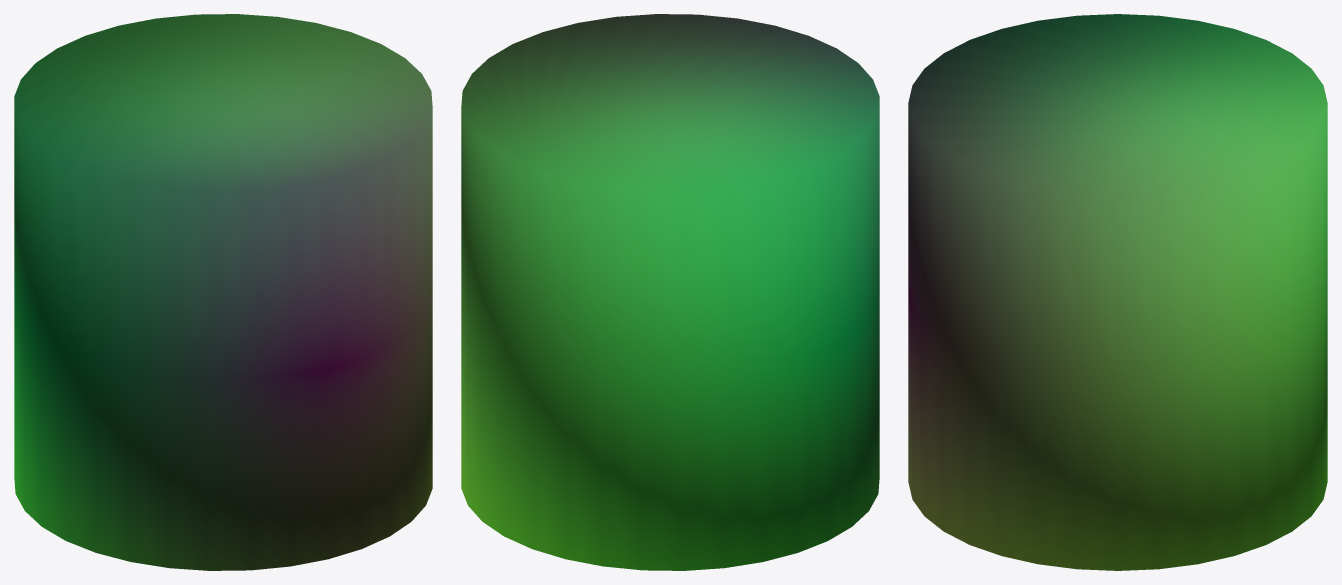
The picture shows the model from 3 angles, left to right: view 1: azimuth 30°, elevation 25°; view 2: azimuth 150°, elevation 25°; view 3: azimuth 270°, elevation 25°; orthographic projection.
Parts seen in each view (by area): view 1: Cylinder; view 2: Cylinder; view 3: Cylinder.
Boxes of the visible parts, box(x1,y1,x2,y2) form: Cylinder: box(14, 14, 432, 570); Cylinder: box(461, 14, 879, 570); Cylinder: box(908, 14, 1327, 570).
Size of the model in its own units: 200 by 200 by 200.
